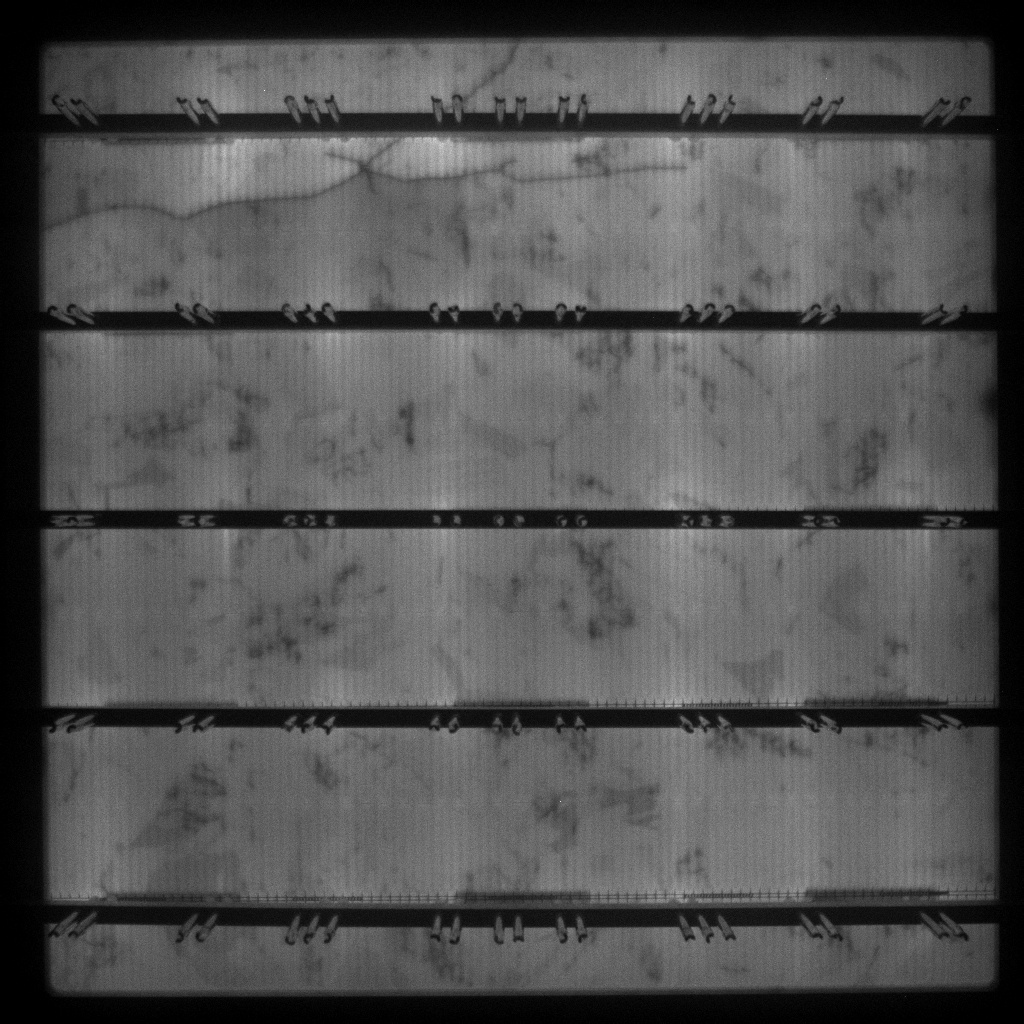crack: (46, 140, 694, 236), (465, 45, 520, 98)
